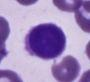L: (22, 22, 68, 60)
